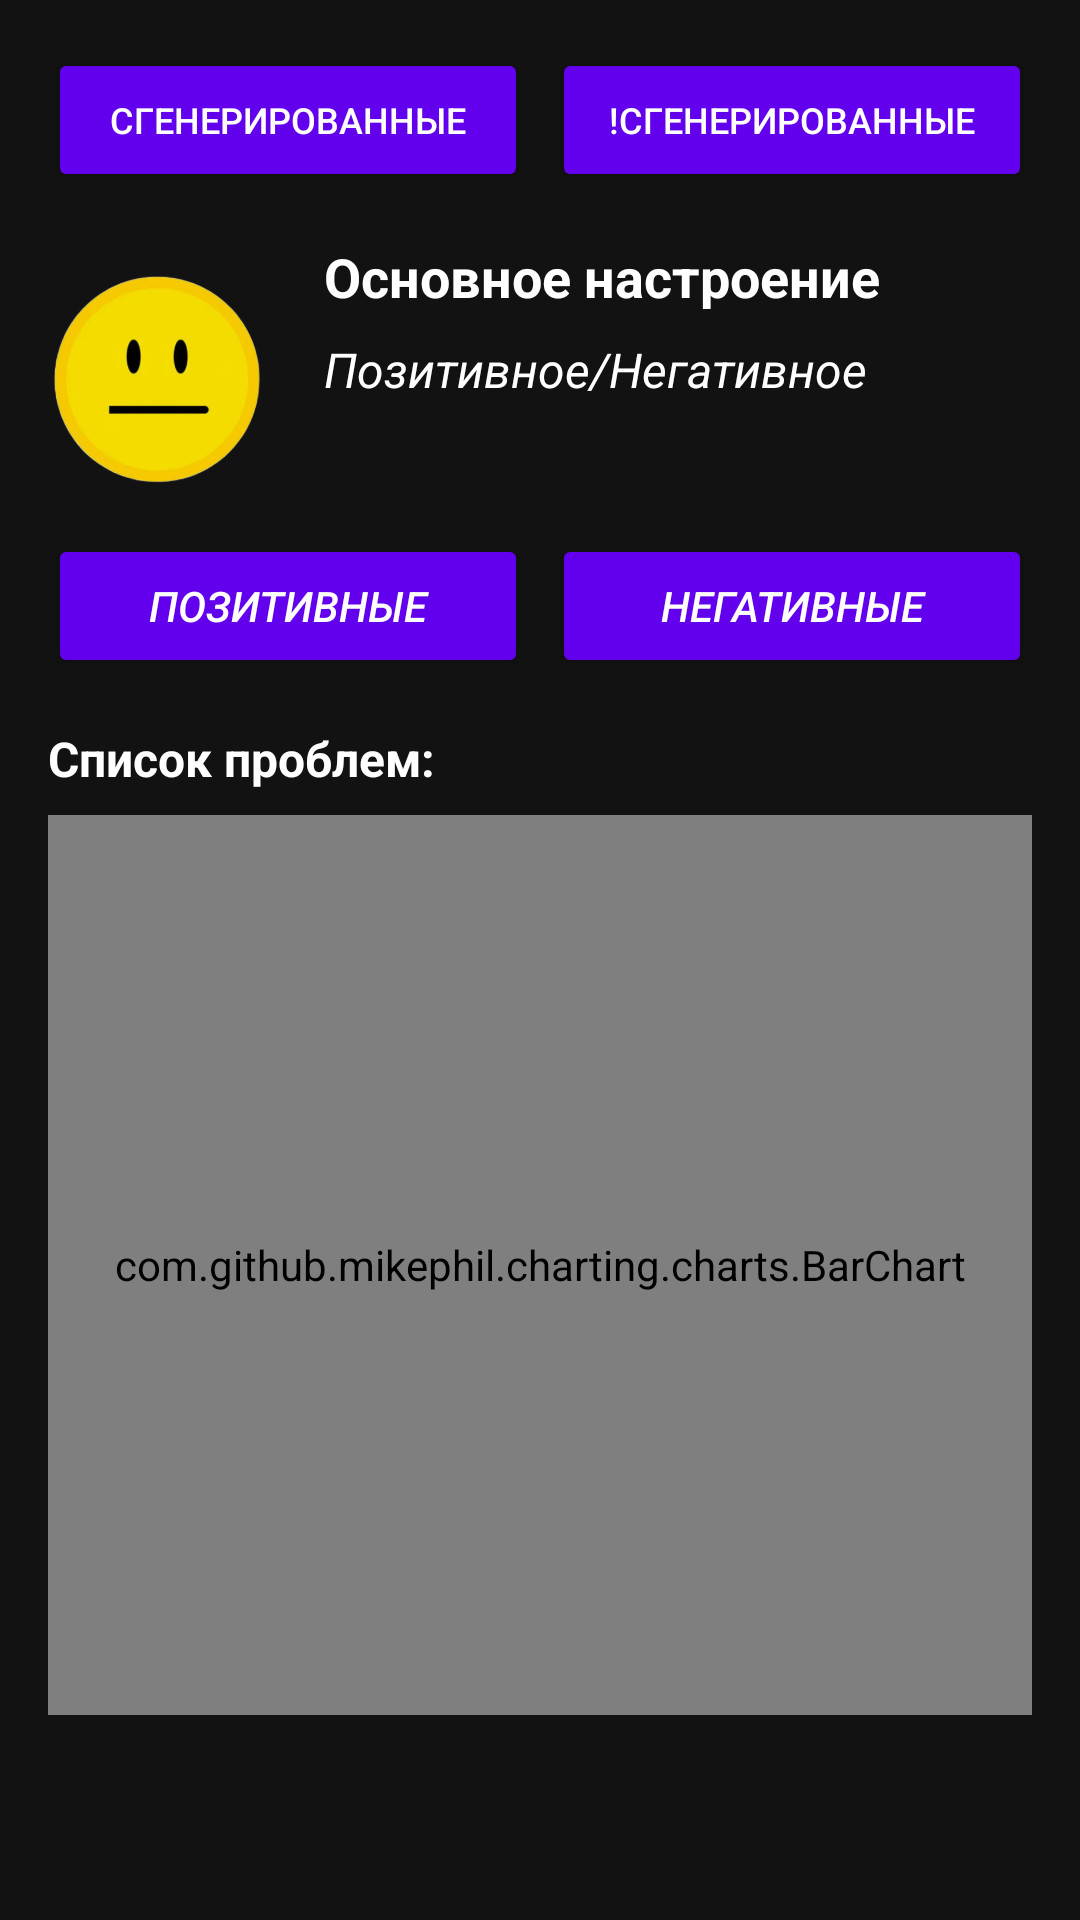

Icons on this 1080x1920 Android screen, each with its box as (x1, y1, x2, y2):
neutral: (54, 276, 260, 482)
